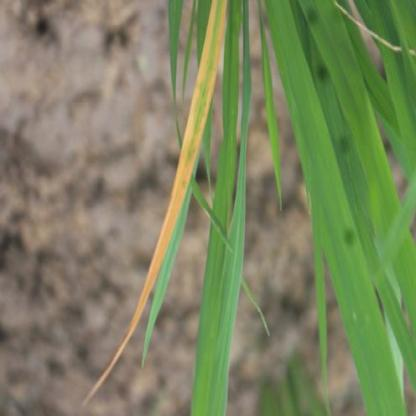Tungro: (136, 1, 242, 310)
